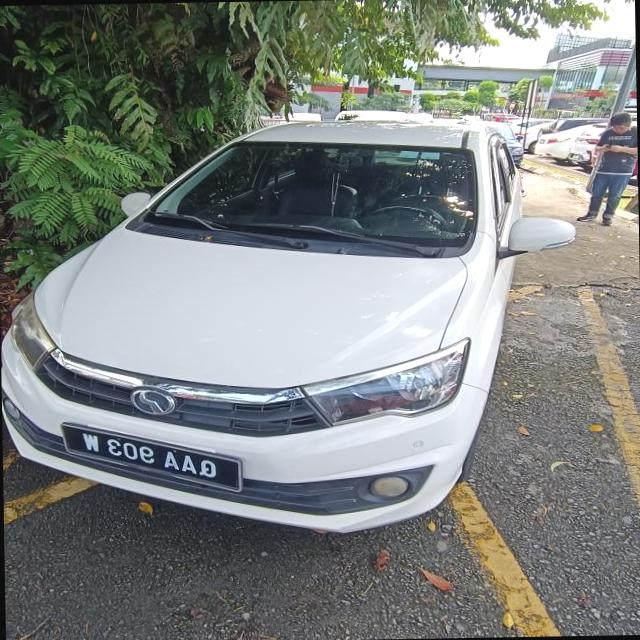PeroduaBezza: (0, 106, 580, 539)
